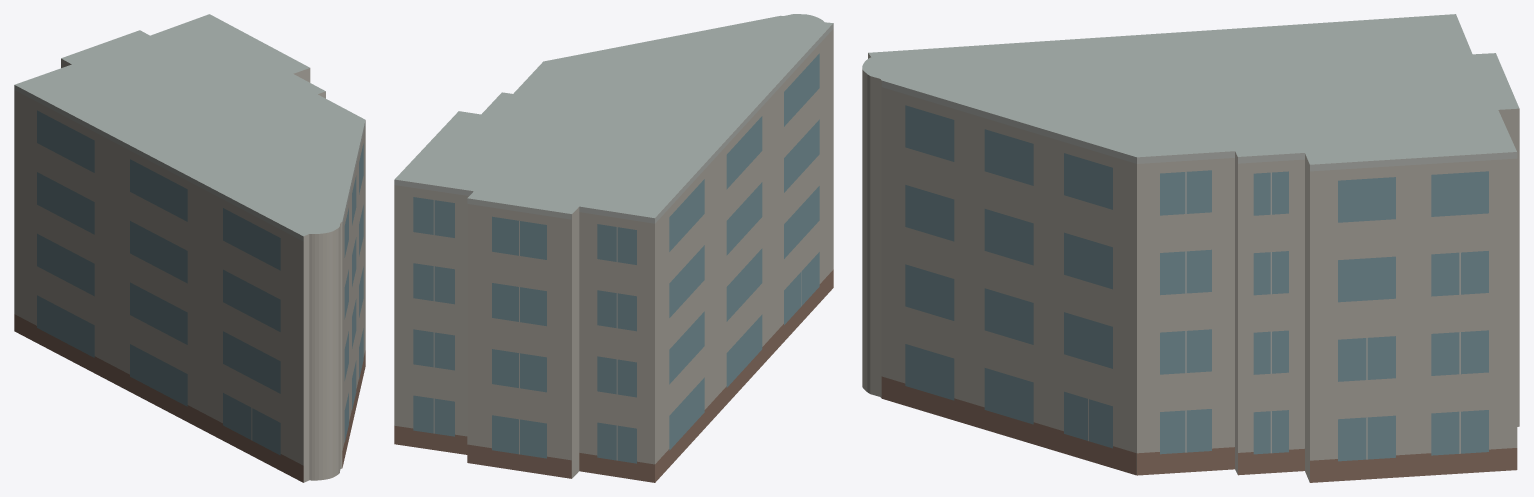
Rendered from survey-upis-32561216.glb.
3 renders of one model, left to right at view 1: azimuth 30°, elevation 25°; view 2: azimuth 150°, elevation 25°; view 3: azimuth 270°, elevation 25°, orthographic. The views are drawn at different scales.
Parts seen in each view (by area): view 1: survey-upis-32561216.tmp; view 2: survey-upis-32561216.tmp; view 3: survey-upis-32561216.tmp.
Part boxes in pixels (x1,y1,x2,y2): survey-upis-32561216.tmp: [14, 14, 365, 482]; survey-upis-32561216.tmp: [394, 14, 833, 482]; survey-upis-32561216.tmp: [862, 14, 1519, 482].
Size of the model in its own units: 11.88 by 11.68 by 21.88.
